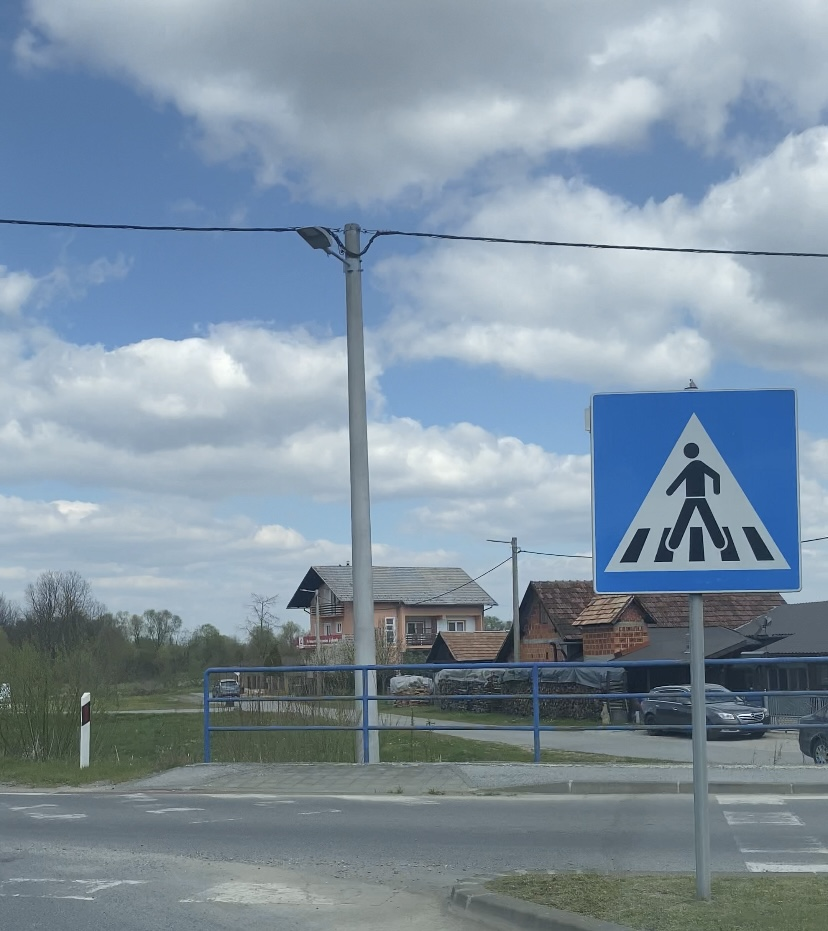Pješački prijelaz: (590, 389, 803, 596)
